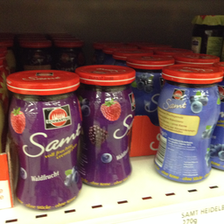jam: (6, 68, 84, 211), (154, 64, 224, 182), (75, 66, 136, 188)
